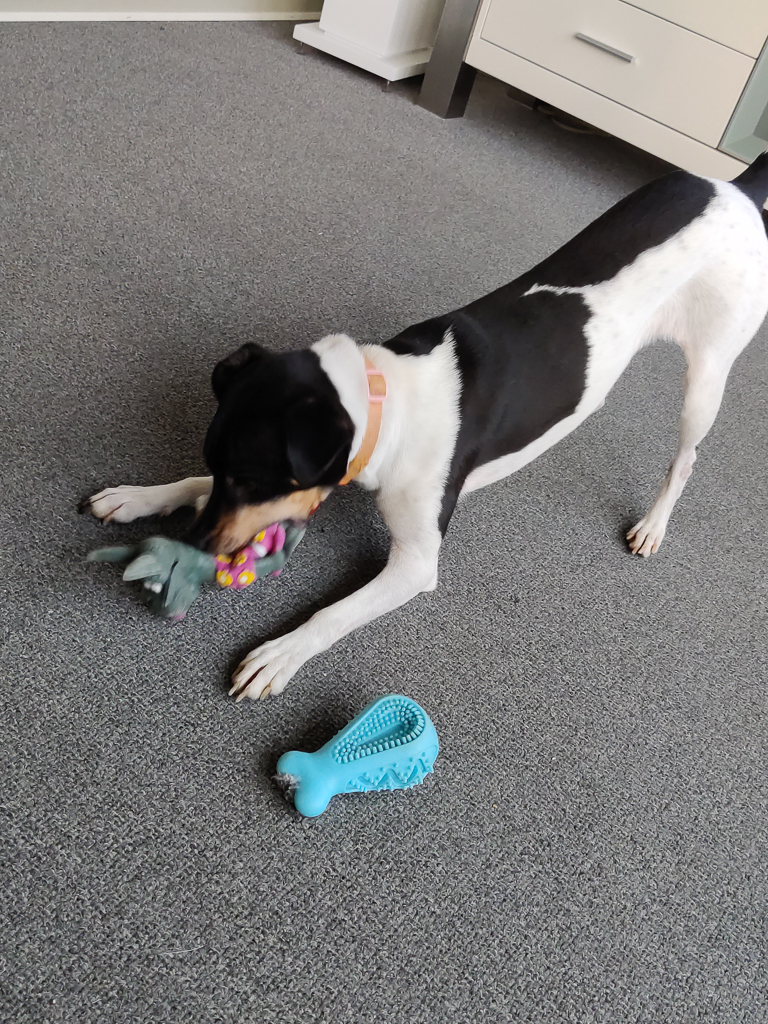Dog: (63, 141, 768, 727)
Humanoid: (74, 484, 316, 627)
